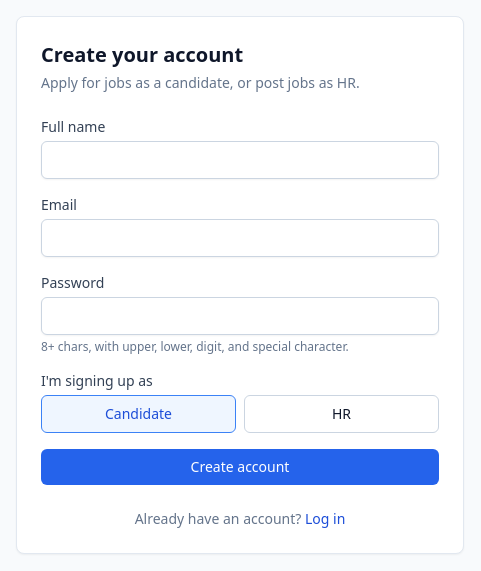
Test: RegisterPage › rejects a password missing required character classes
Type "Jane Doe" into the field labelled "Full name" at (240, 160), box [41,141,439,179]
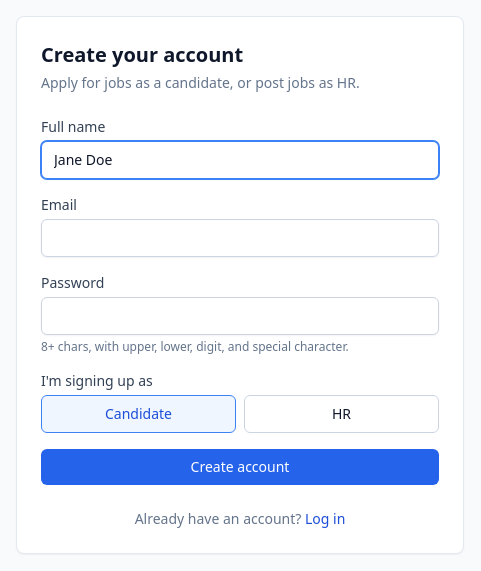
Type "jane@test.com" into the field labelled "Email" at (240, 238), box [41,219,439,257]
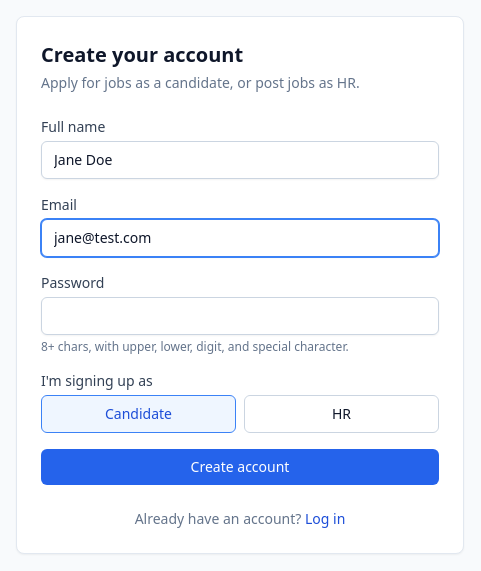
Type "allsmallchars" into the password field labelled "Password" at (240, 316), box [41,297,439,335]
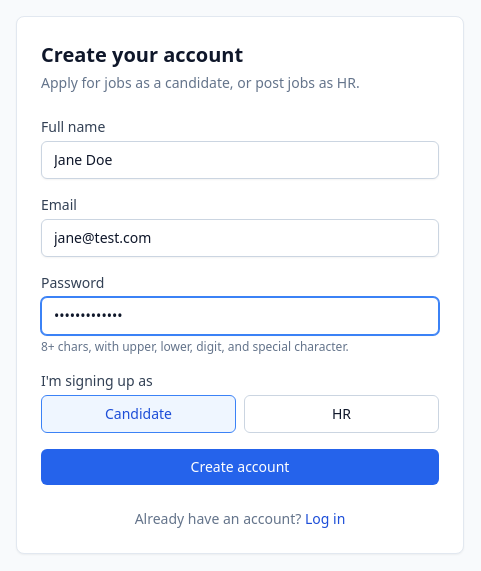
Click the button "Create account" at (240, 467), box [41,449,439,485]
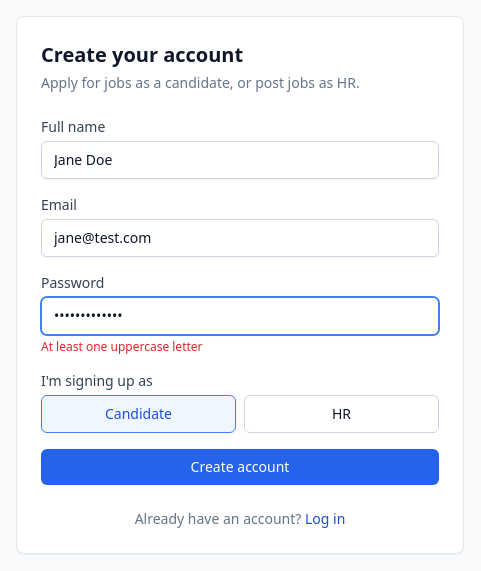
Expected: the text "At least one uppercase letter" is shown, [41,338,202,355]
